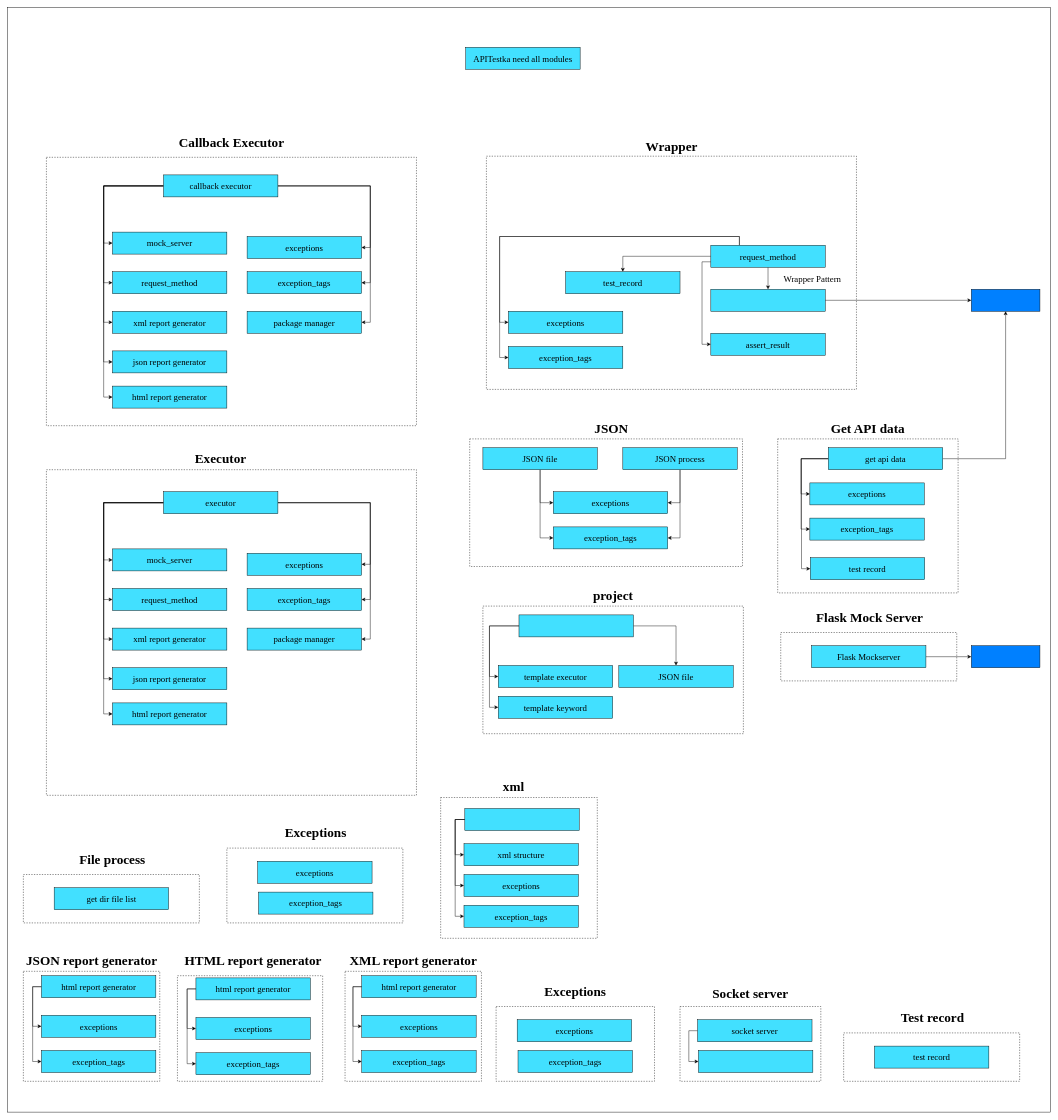
The diagram is 1058 pixels wide and 1120 high, and some of its shapes have lost their labels. The centre of each missing label's shape, as x and y in pixels:
"create project dir" goes at [576,625].
"execute action" goes at [755,1061].
"Flask" goes at [1005,656].
"request_http_method_wrapper" goes at [767,300].
"Requests" goes at [1005,300].
"xml file" goes at [521,819].
